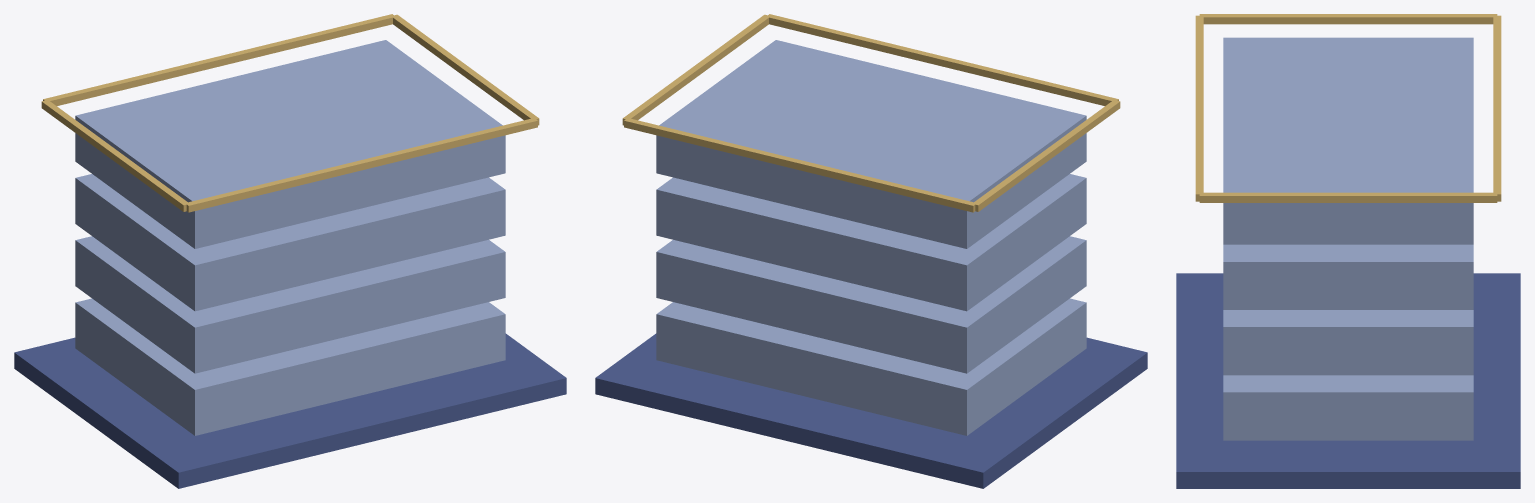
Rendered from stack.glb.
3 views of the same model, side by side, from view 1: azimuth 30°, elevation 25°; view 2: azimuth 150°, elevation 25°; view 3: azimuth 270°, elevation 25° (orthographic). The views are drawn at different scales.
Visible parts, largest first — view 1: slab_3, base, slab_0, slab_1, slab_2, cap_frame; view 2: slab_3, base, slab_0, slab_1, slab_2, cap_frame; view 3: slab_3, base, slab_0, slab_1, slab_2, cap_frame.
Boxes of the visible parts, bbox=[...] form: slab_3: bbox=[75, 40, 505, 248]; base: bbox=[14, 333, 566, 488]; slab_0: bbox=[75, 298, 505, 435]; slab_1: bbox=[75, 236, 505, 373]; slab_2: bbox=[75, 174, 505, 311]; cap_frame: bbox=[41, 14, 539, 212]; slab_3: bbox=[656, 40, 1086, 248]; base: bbox=[595, 333, 1147, 488]; slab_0: bbox=[656, 298, 1086, 435]; slab_1: bbox=[656, 236, 1086, 373]; slab_2: bbox=[656, 174, 1086, 311]; cap_frame: bbox=[622, 14, 1120, 212]; slab_3: bbox=[1223, 37, 1473, 244]; base: bbox=[1176, 273, 1520, 488]; slab_0: bbox=[1223, 375, 1473, 440]; slab_1: bbox=[1223, 310, 1473, 375]; slab_2: bbox=[1223, 244, 1473, 309]; cap_frame: bbox=[1195, 14, 1501, 202].
Bounding box in the file's own units: 3 × 2 × 2.2.
